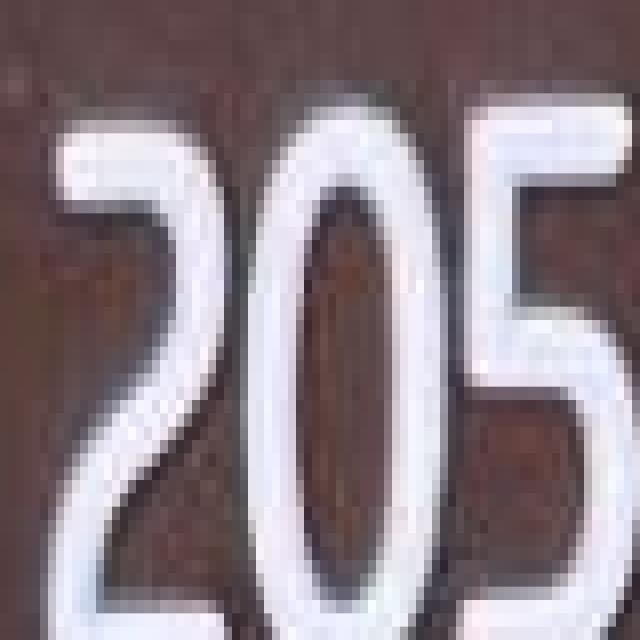character: (241, 86, 449, 640), (38, 108, 238, 640), (453, 73, 640, 639)
